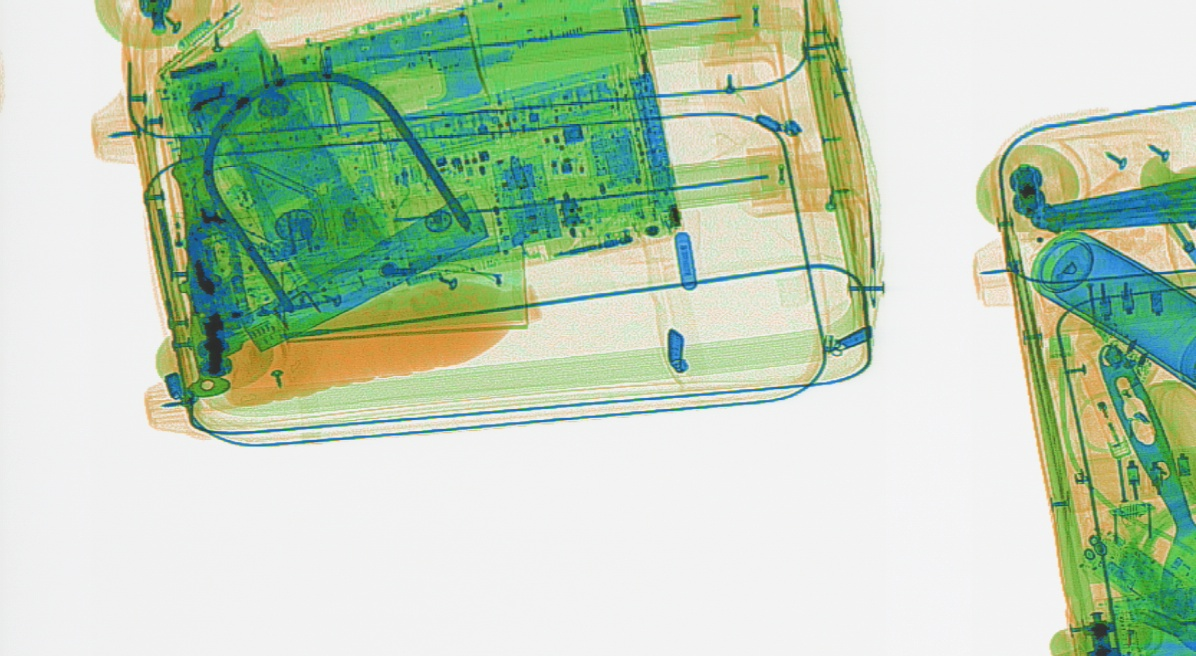knife: (168, 132, 232, 398)
lighter: (1075, 355, 1127, 455)
